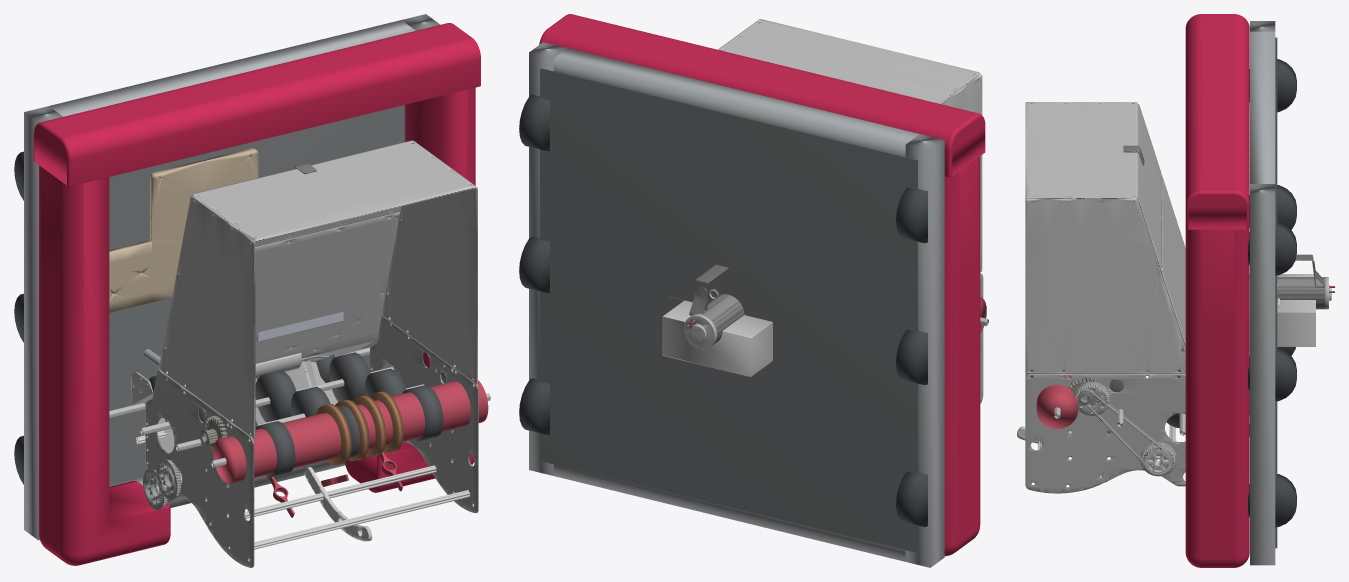
File: kitbot.glb
The picture shows the model from 3 angles, left to right: view 1: azimuth 30°, elevation 25°; view 2: azimuth 150°, elevation 25°; view 3: azimuth 270°, elevation 25°; orthographic projection. The views are drawn at different scales.
Visible parts, largest first — view 1: bumpers, hopper, chassis, intake, launcher2, power, hopper2, frame2, launcher, frame, intake2, deck; view 2: chassis, bumpers, hopper, power, drive, deck; view 3: hopper, bumpers, chassis, intake, launcher2, deck, drive, power, launcher, hopper2.
Boxes of the visible parts, left/top/right/bottom form: bumpers: left=33, top=23, right=480, bottom=565; hopper: left=159, top=140, right=477, bottom=438; chassis: left=14, top=14, right=440, bottom=540; intake: left=131, top=316, right=490, bottom=567; launcher2: left=143, top=380, right=488, bottom=510; power: left=109, top=148, right=400, bottom=341; hopper2: left=140, top=349, right=424, bottom=517; frame2: left=135, top=431, right=470, bottom=549; launcher: left=200, top=369, right=453, bottom=541; frame: left=210, top=465, right=436, bottom=524; intake2: left=109, top=347, right=370, bottom=424; deck: left=191, top=195, right=401, bottom=247; chassis: left=519, top=42, right=944, bottom=567; bumpers: left=539, top=14, right=985, bottom=556; hopper: left=718, top=19, right=982, bottom=272; power: left=662, top=300, right=772, bottom=376; drive: left=668, top=289, right=744, bottom=349; deck: left=689, top=264, right=728, bottom=315; hopper: left=1025, top=102, right=1185, bottom=373; bumpers: left=1185, top=14, right=1249, bottom=567; chassis: left=1248, top=21, right=1296, bottom=565; intake: left=1025, top=352, right=1249, bottom=493; launcher2: left=1030, top=369, right=1177, bottom=476; deck: left=1137, top=104, right=1324, bottom=306; drive: left=1080, top=277, right=1334, bottom=466; power: left=1249, top=274, right=1315, bottom=351; launcher: left=1017, top=376, right=1171, bottom=474; hopper2: left=1107, top=349, right=1185, bottom=435.
Bounding box in the file's own units: 1 × 0.9939 × 0.7509.
